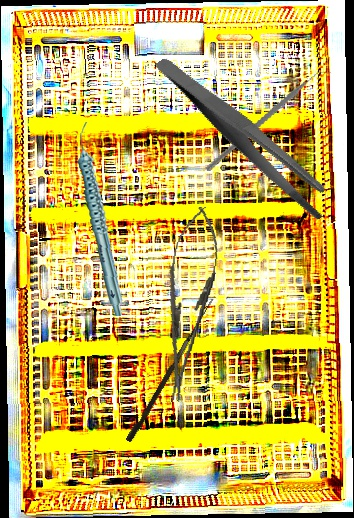Chopper: (205, 45, 333, 198)
Dressing Forceps: (153, 23, 338, 249)
Handpiece: (72, 121, 129, 317)
Hook Surgical: (125, 295, 214, 444)
Needle Holder: (151, 203, 225, 405)
